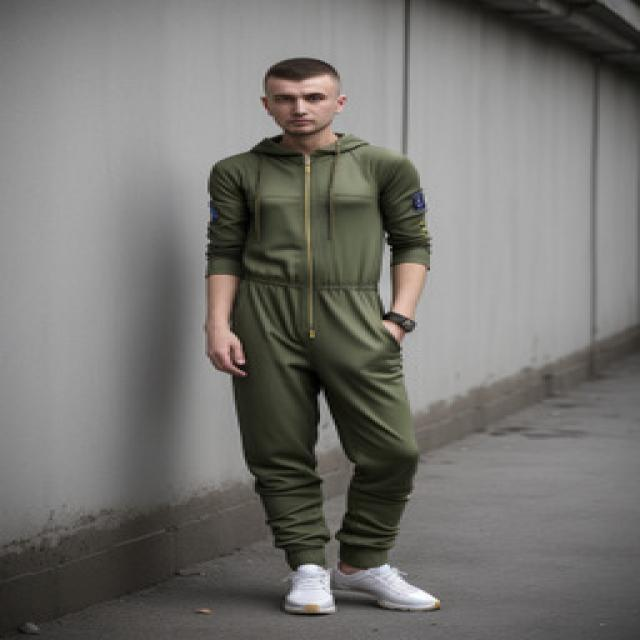Ai human 2: (194, 49, 487, 626)
